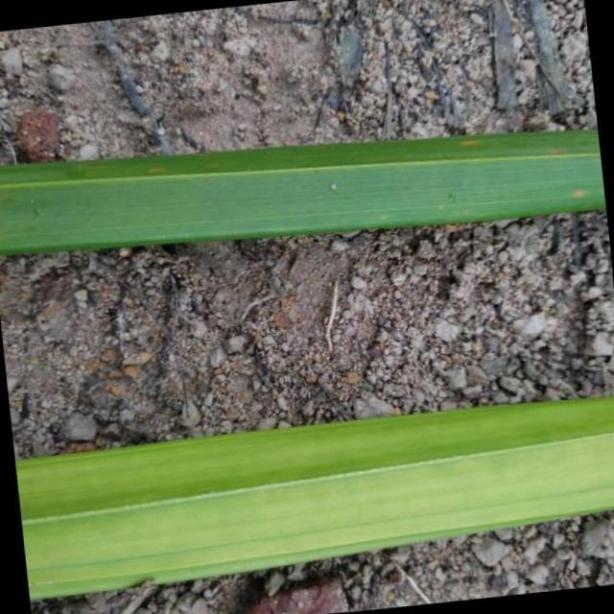nitrogen: (0, 393, 614, 603), (6, 126, 606, 256)
